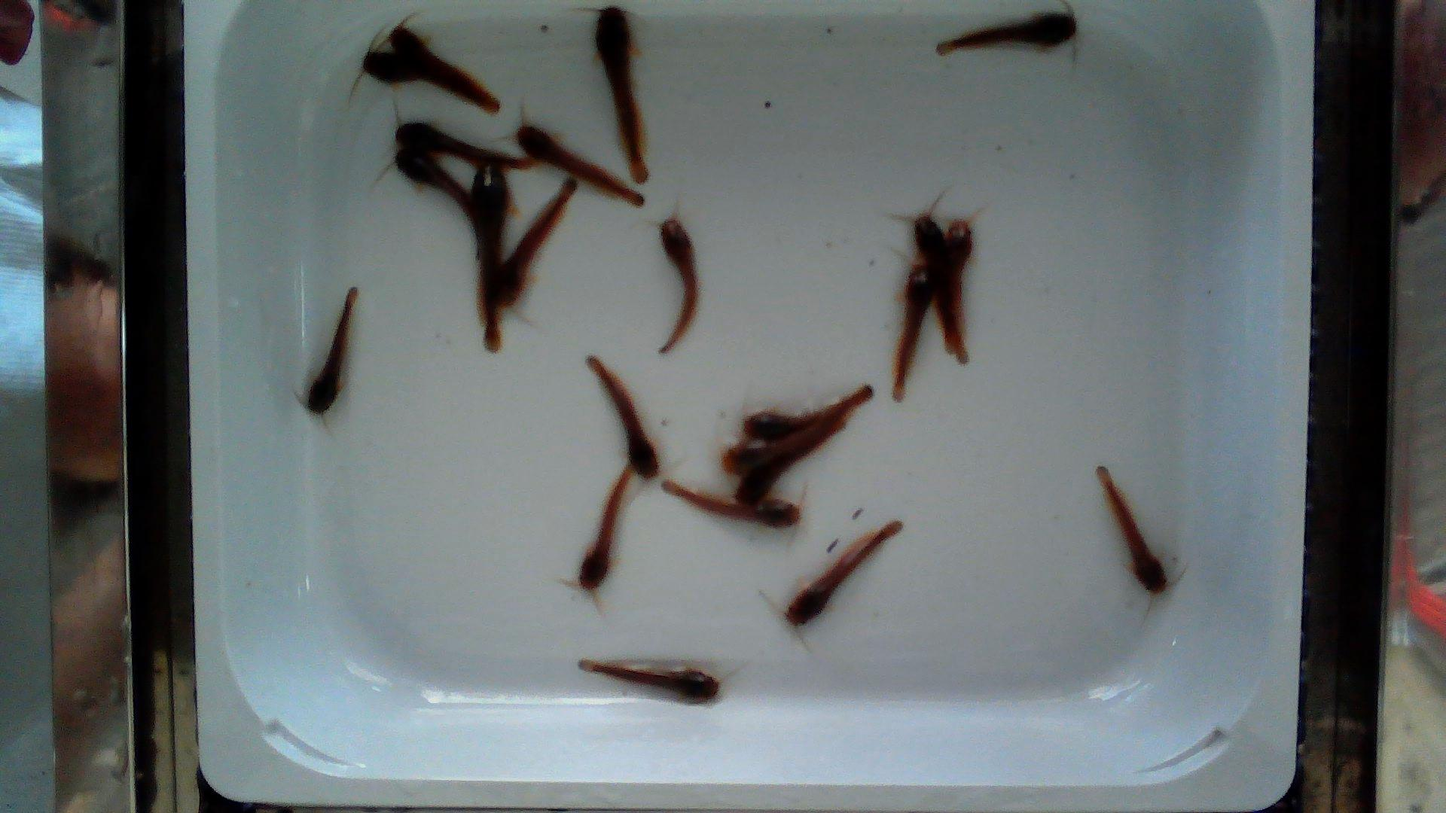lele: (492, 179, 577, 321), (786, 522, 901, 626), (389, 145, 479, 258), (720, 402, 861, 474), (517, 125, 642, 205), (734, 418, 846, 504), (385, 29, 499, 109), (1096, 466, 1167, 594), (597, 7, 648, 184), (914, 214, 972, 367), (587, 357, 658, 478), (364, 53, 498, 114), (743, 386, 871, 441), (472, 166, 510, 351), (392, 122, 538, 169), (580, 464, 632, 591), (306, 288, 358, 414), (661, 480, 800, 527), (937, 11, 1076, 54), (580, 659, 719, 702), (892, 265, 935, 402), (660, 218, 697, 352), (943, 218, 972, 341)
